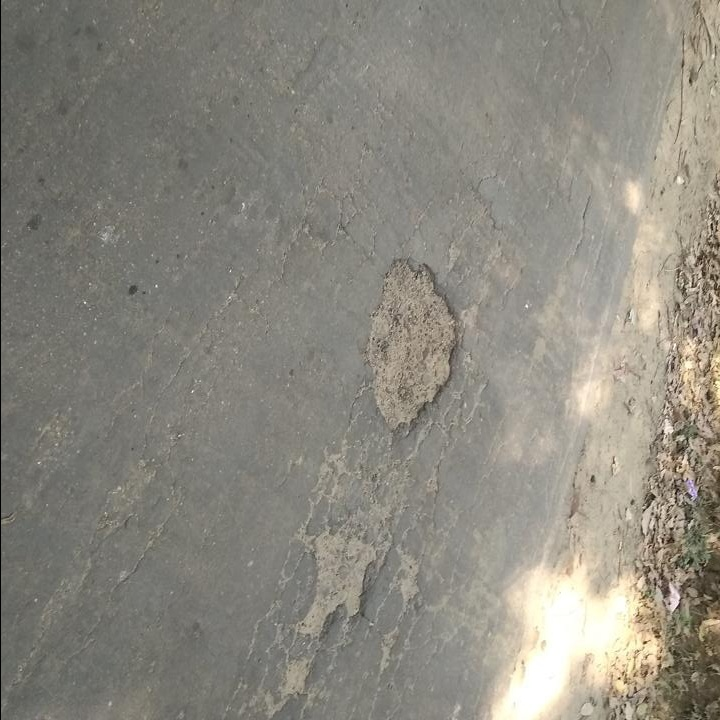pothole: (362, 253, 463, 432), (291, 522, 382, 637)
